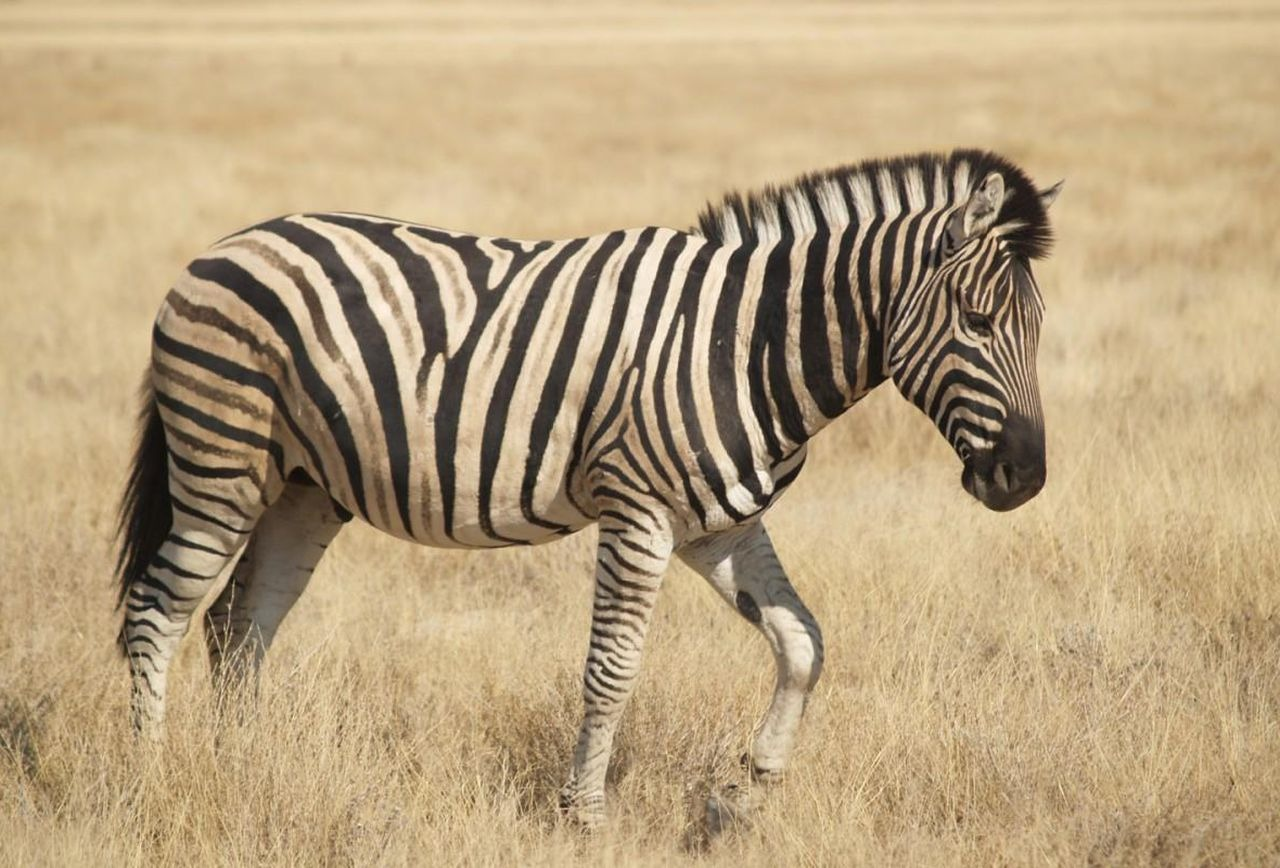zebra: (76, 128, 1073, 830)
